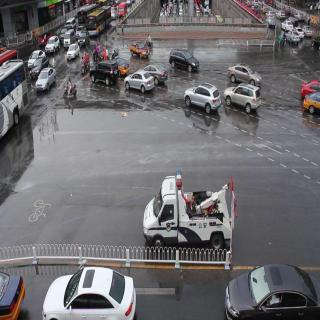BigCar: (0, 62, 26, 126), (89, 5, 112, 38)
Car: (143, 172, 234, 249), (222, 262, 319, 320), (42, 266, 136, 320), (183, 80, 222, 120), (224, 80, 261, 116), (227, 60, 263, 89), (171, 46, 199, 80), (124, 69, 156, 97), (90, 60, 117, 90), (36, 68, 57, 94), (30, 55, 48, 78), (131, 38, 148, 62), (304, 90, 320, 112), (46, 36, 60, 54), (29, 48, 44, 63), (287, 29, 300, 46), (67, 44, 80, 60), (283, 18, 295, 34), (119, 0, 127, 20), (79, 33, 88, 48), (64, 30, 72, 46), (296, 26, 304, 40), (305, 25, 313, 38)
